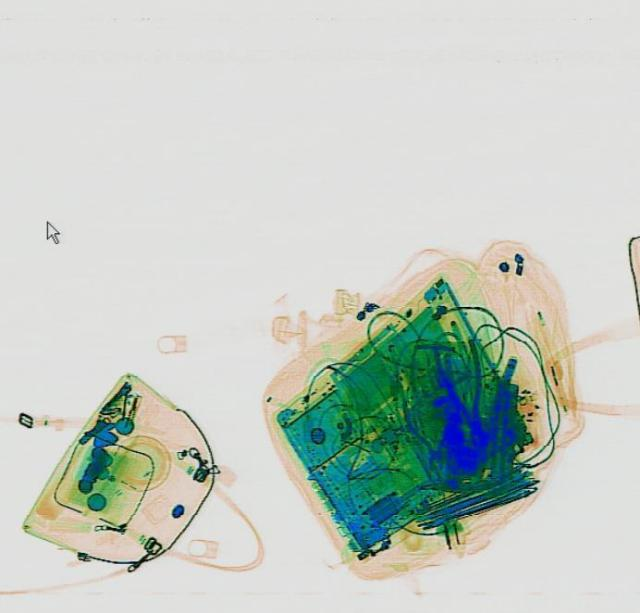Pliers: (427, 336, 505, 448), (399, 392, 461, 472)
